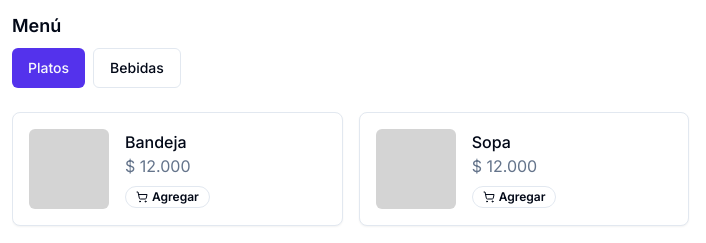
Scenario: MenuSection — cached menu (T6/S1/S2) › keeps the previous dishes on screen while the next category loads
This screenshot has width=706, height=243.
Later steps or results of the test are not shown.
Expected: the heading "Bandeja" is shown, [125,132,187,152]
Click the button "Bebidas".
click(137, 68)  # box [93,48,181,88]
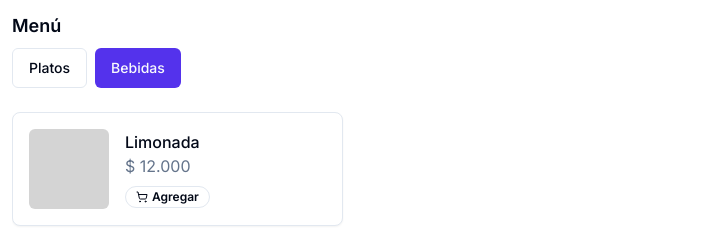
Result: the heading "Limonada" is shown at [125,130,210,154]
Result: the heading "Bandeja" is gone
